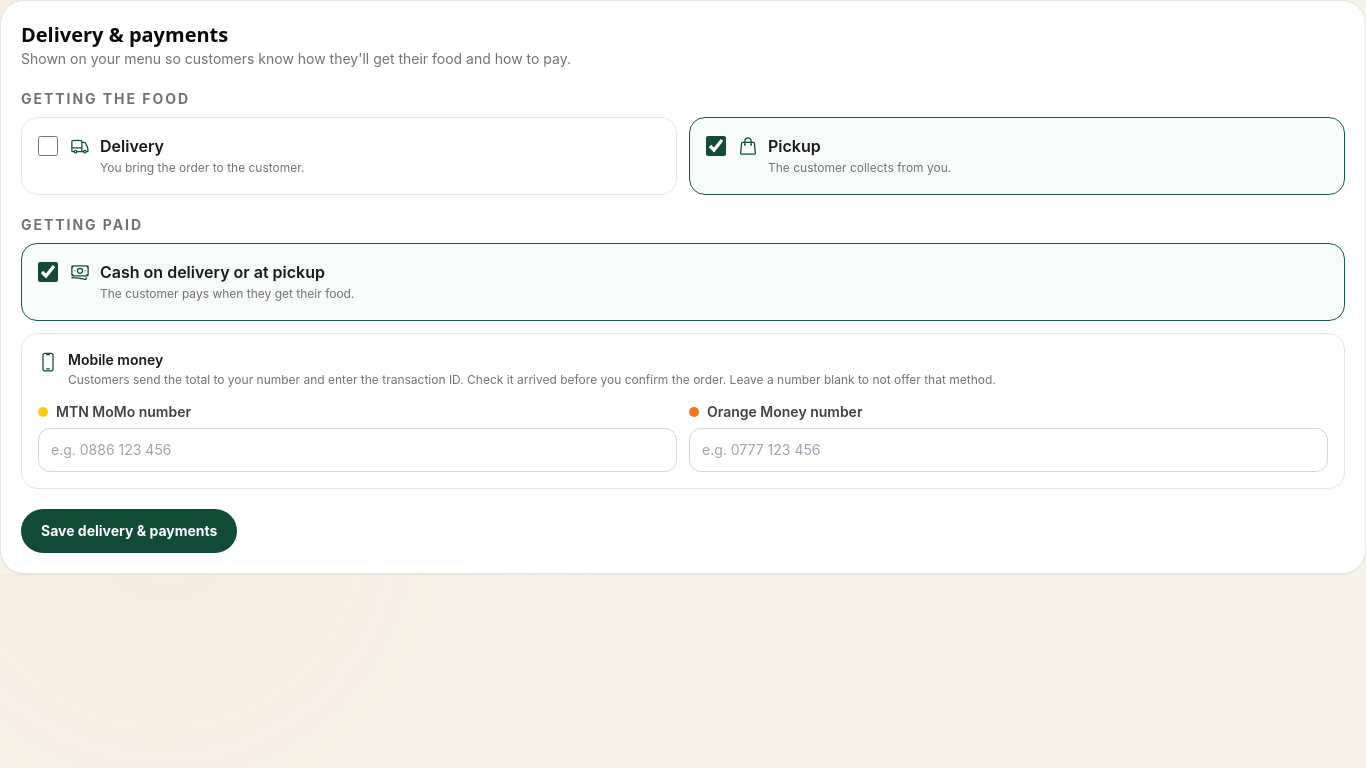
Test: DeliveryPaymentSettings › won't save with no way to receive food or payment
The width and height of the screenshot is (1366, 768).
Click the checkbox labelled "Pickup The customer collects from you." at (716, 146), box [706, 136, 726, 156]
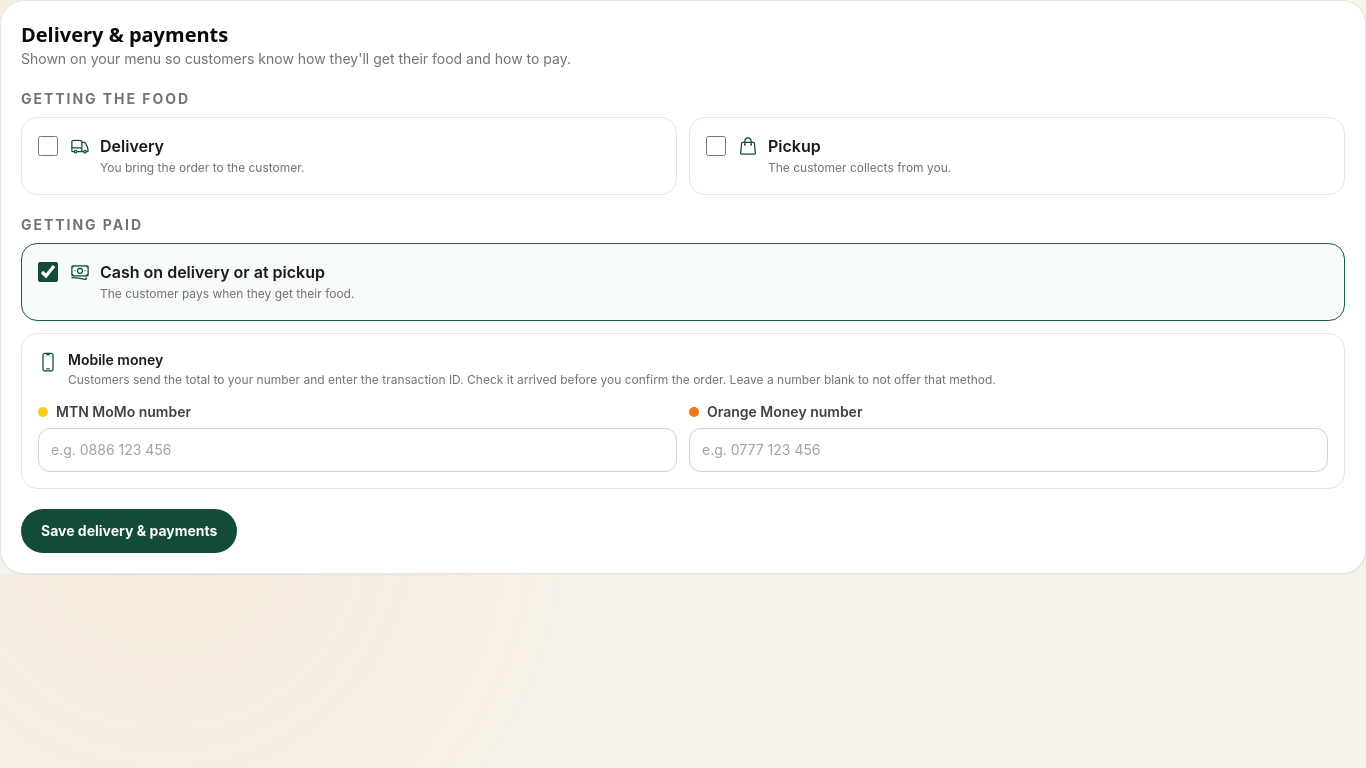
Click the button "Save delivery & payments" at (129, 531), box [21, 509, 238, 553]
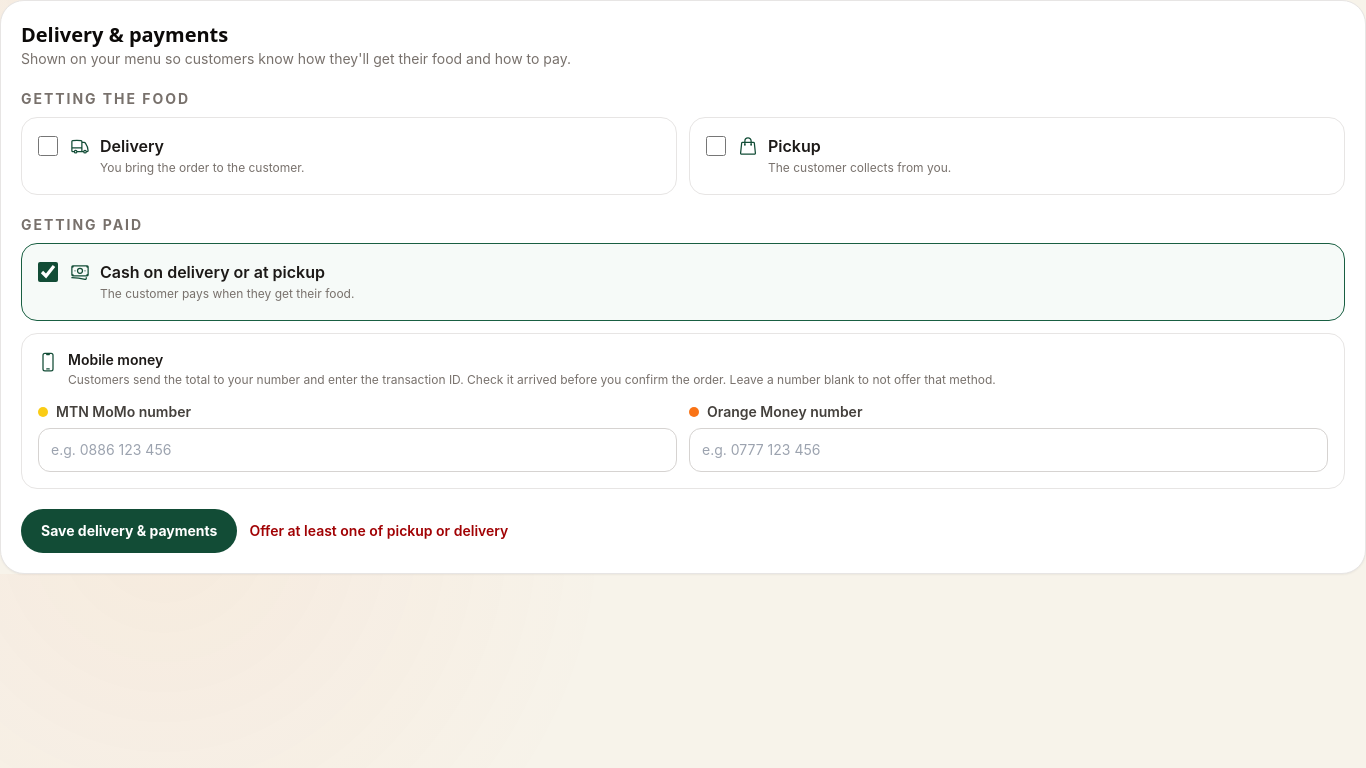
Check: the message reads "Offer at least one of pickup or delivery", box [250, 522, 508, 539]
Click the checkbox labelled "Pickup The customer collects from you." at (716, 146), box [706, 136, 726, 156]
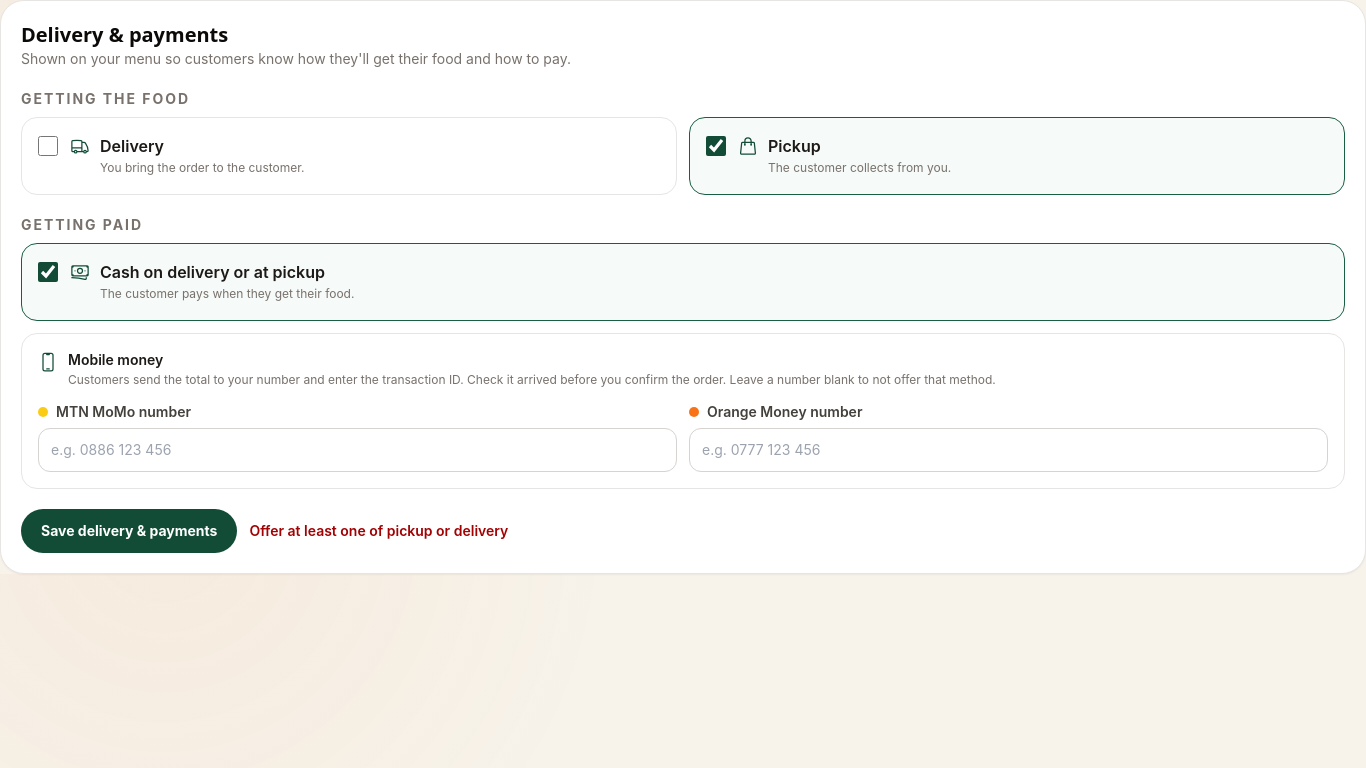
Click the checkbox labelled "Cash on delivery" at (48, 272), box [38, 262, 58, 282]
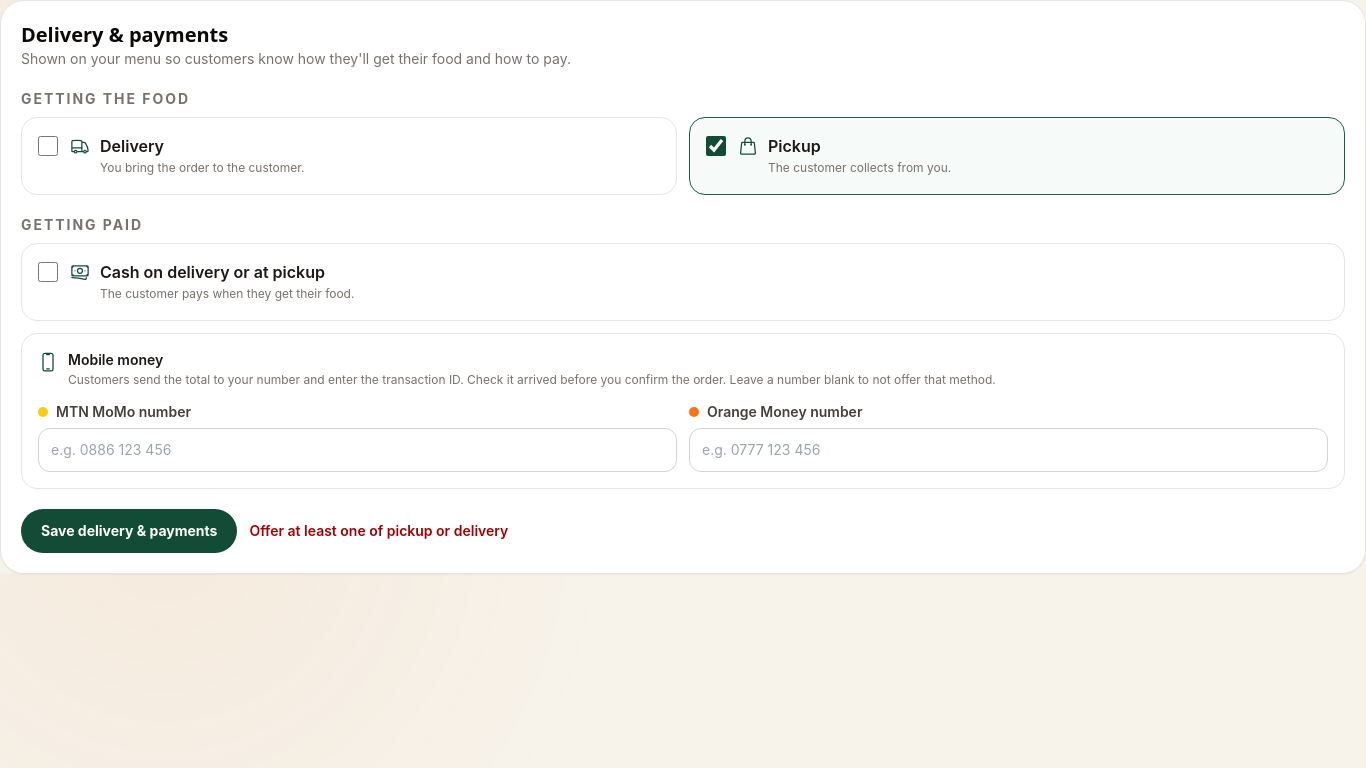
Click the button "Save delivery & payments" at (129, 531), box [21, 509, 238, 553]
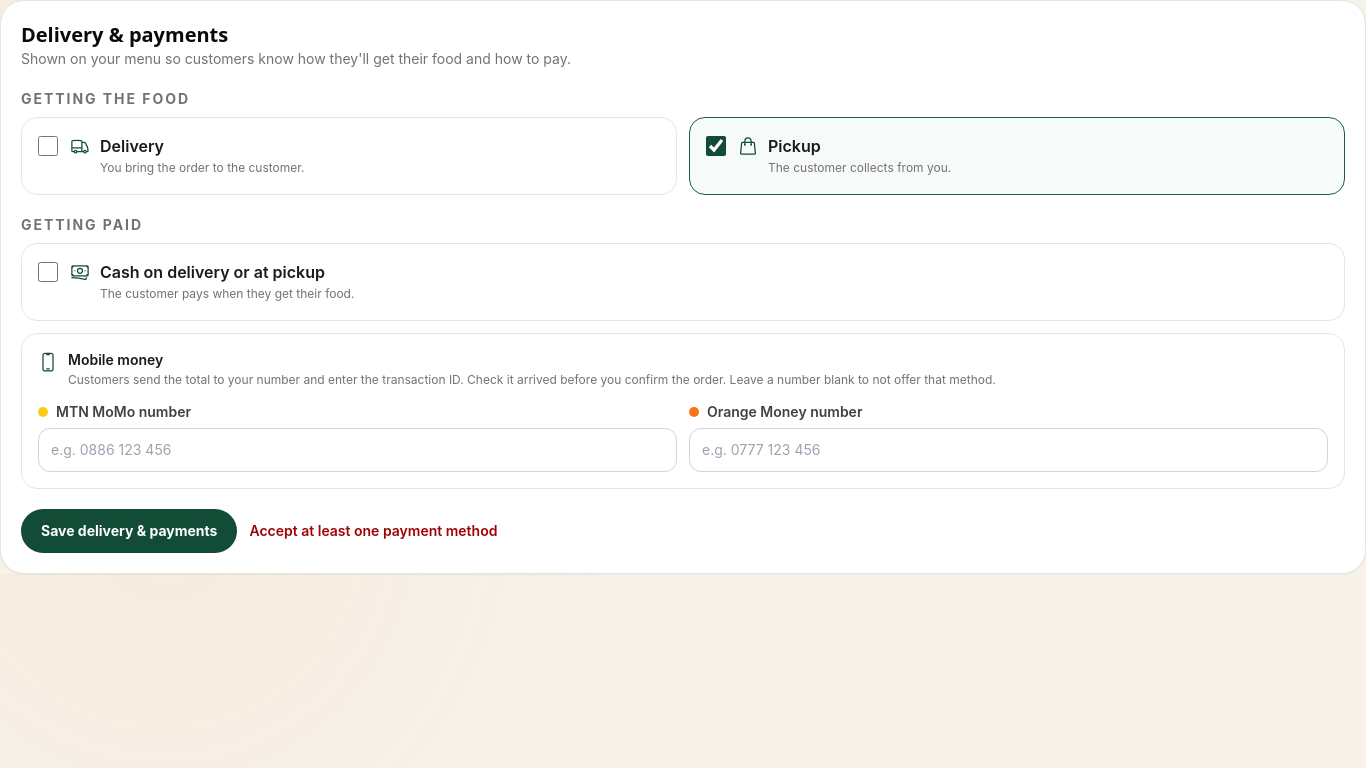
Check: the message reads "Accept at least one payment method", box [250, 522, 498, 539]
